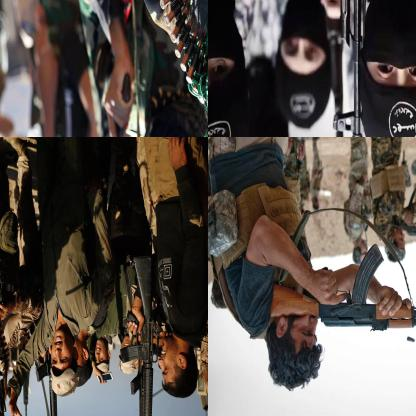rifle: (269, 246, 415, 340), (332, 0, 415, 136), (117, 255, 158, 415), (103, 78, 164, 136), (0, 316, 32, 415), (35, 360, 61, 415), (391, 199, 415, 239)
